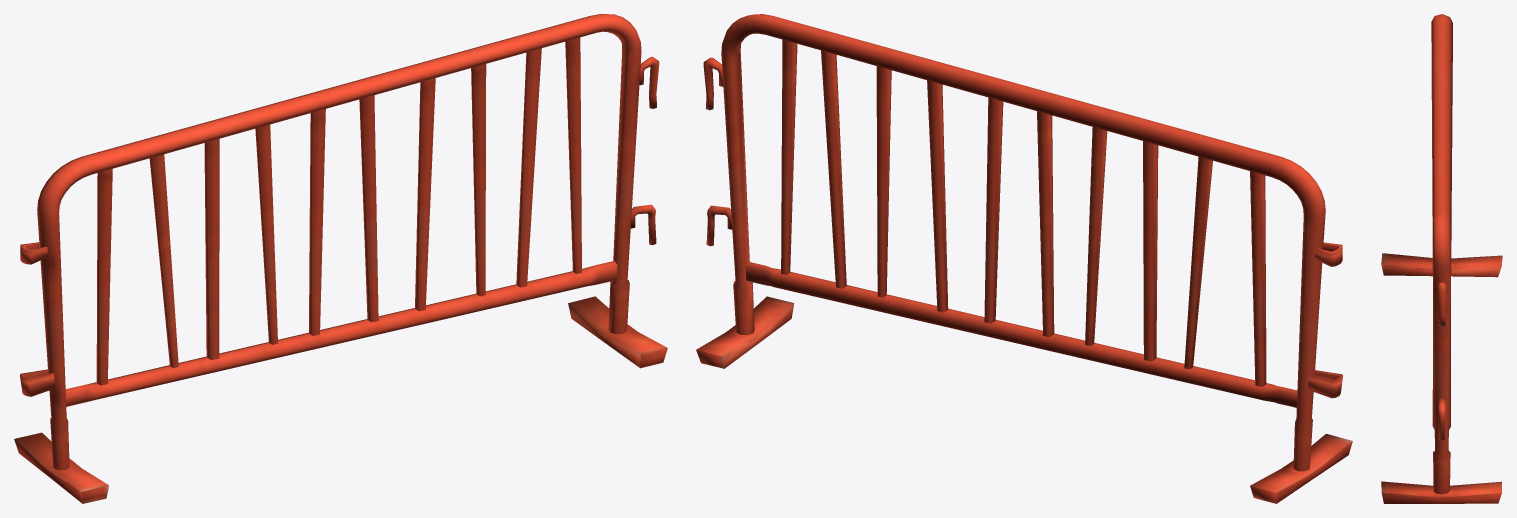
The model's file is nc_prop_barrier_01.fbx.
3 renders of one model, left to right at view 1: azimuth 30°, elevation 25°; view 2: azimuth 150°, elevation 25°; view 3: azimuth 270°, elevation 25°, orthographic. The views are drawn at different scales.
Visible parts, largest first — view 1: nc_prop_barrier_01_LOD0; view 2: nc_prop_barrier_01_LOD0; view 3: nc_prop_barrier_01_LOD0.
Boxes of the visible parts, left/top/right/bottom form: nc_prop_barrier_01_LOD0: left=14, top=14, right=667, bottom=503; nc_prop_barrier_01_LOD0: left=696, top=14, right=1352, bottom=503; nc_prop_barrier_01_LOD0: left=1381, top=14, right=1502, bottom=503.
Size of what is drawn, in the model's own units: 2.25 by 1.11 by 0.4421.
Materials: 1 (1 with a texture image).
